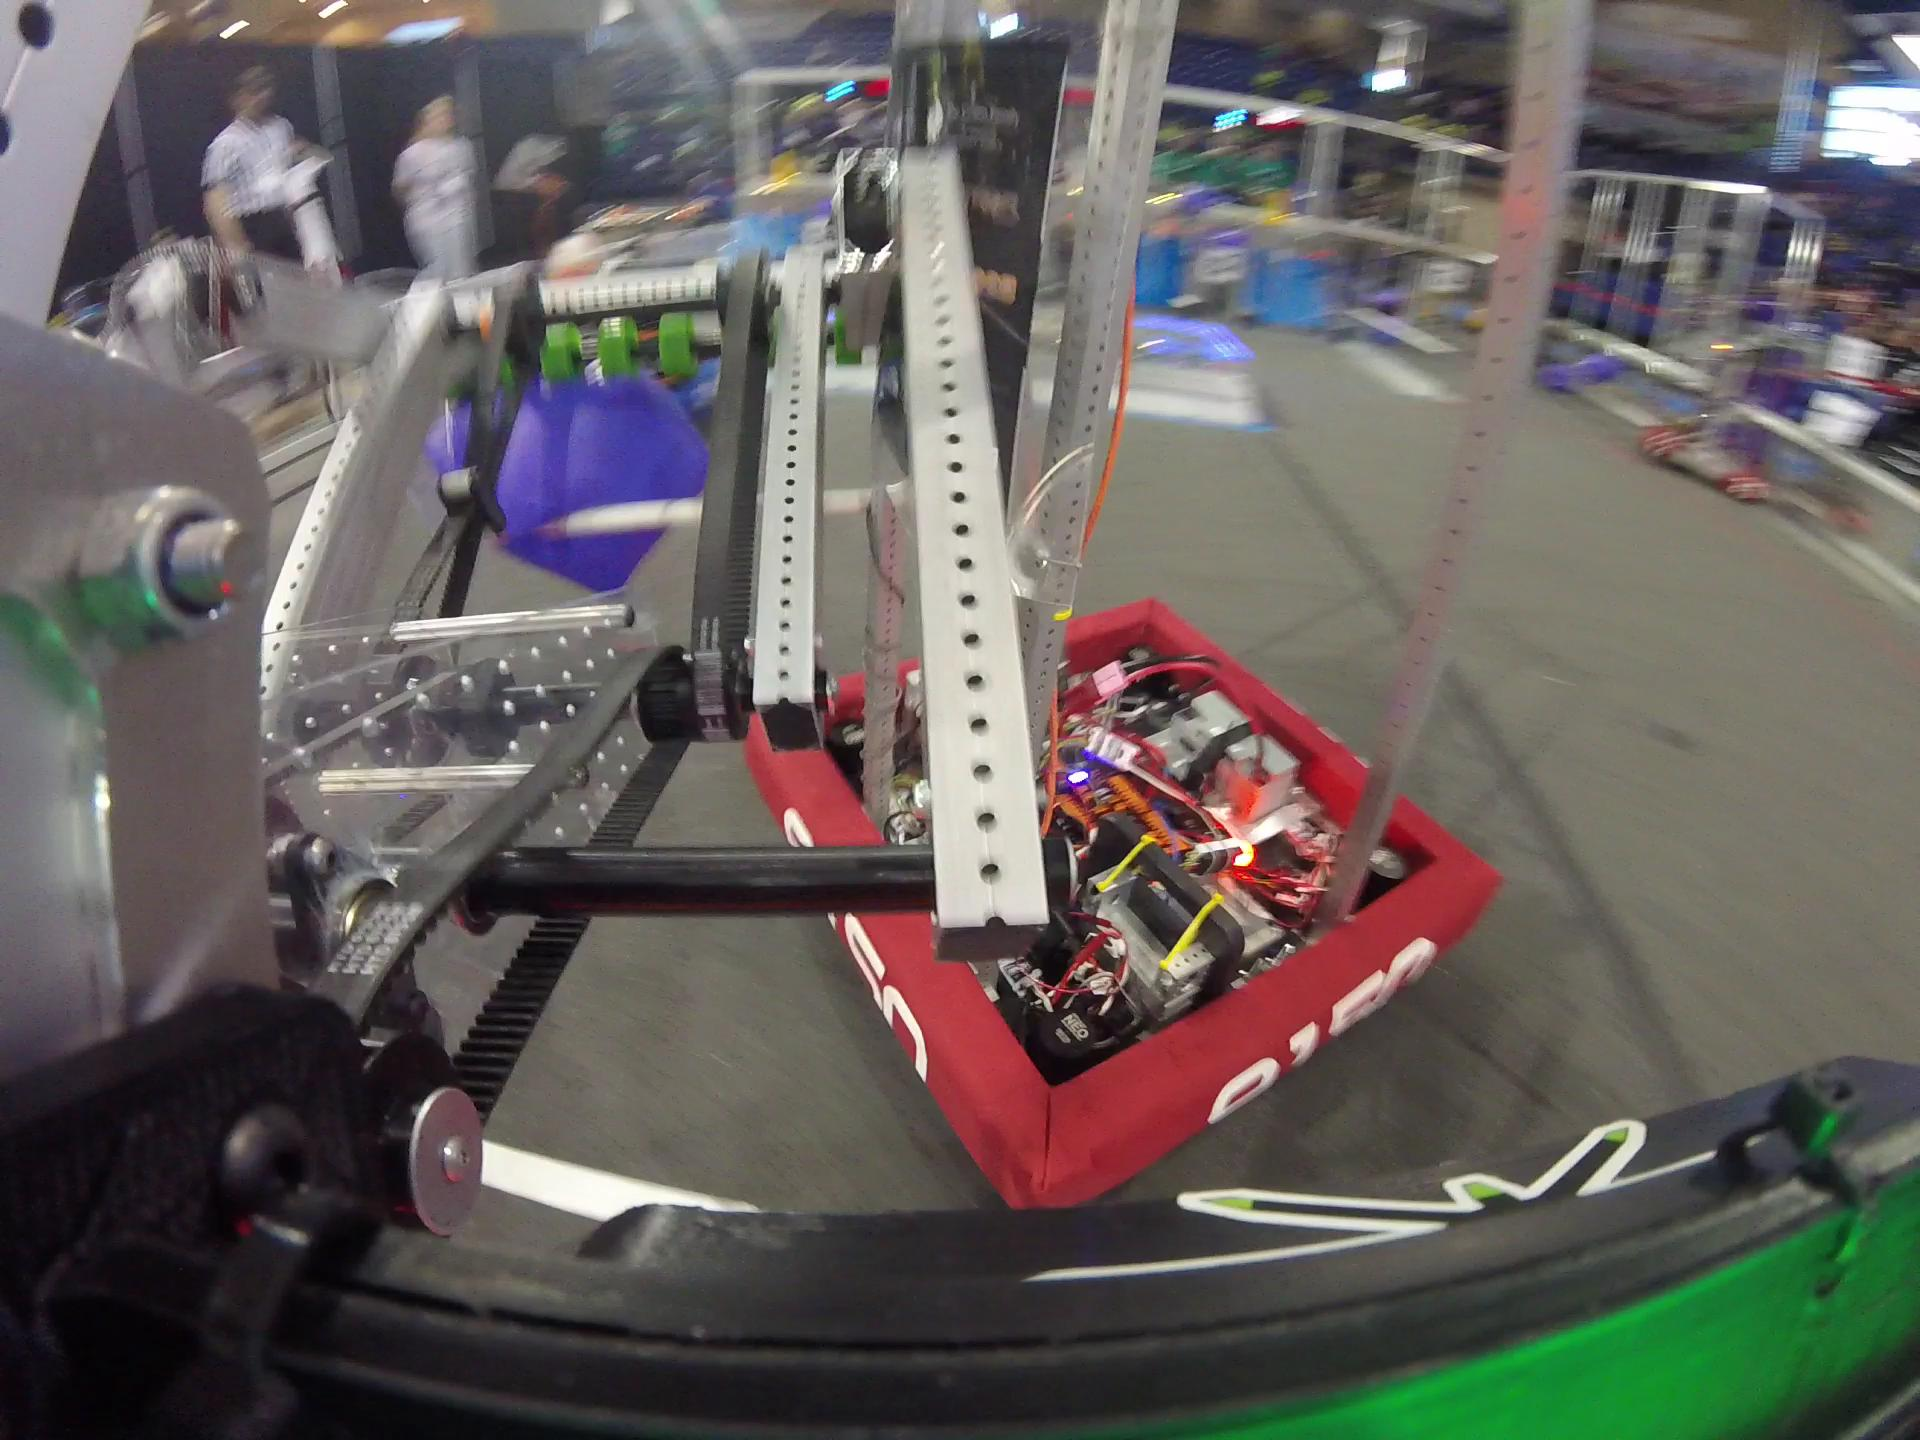robot: (745, 0, 1503, 1171), (1642, 324, 1770, 501)
